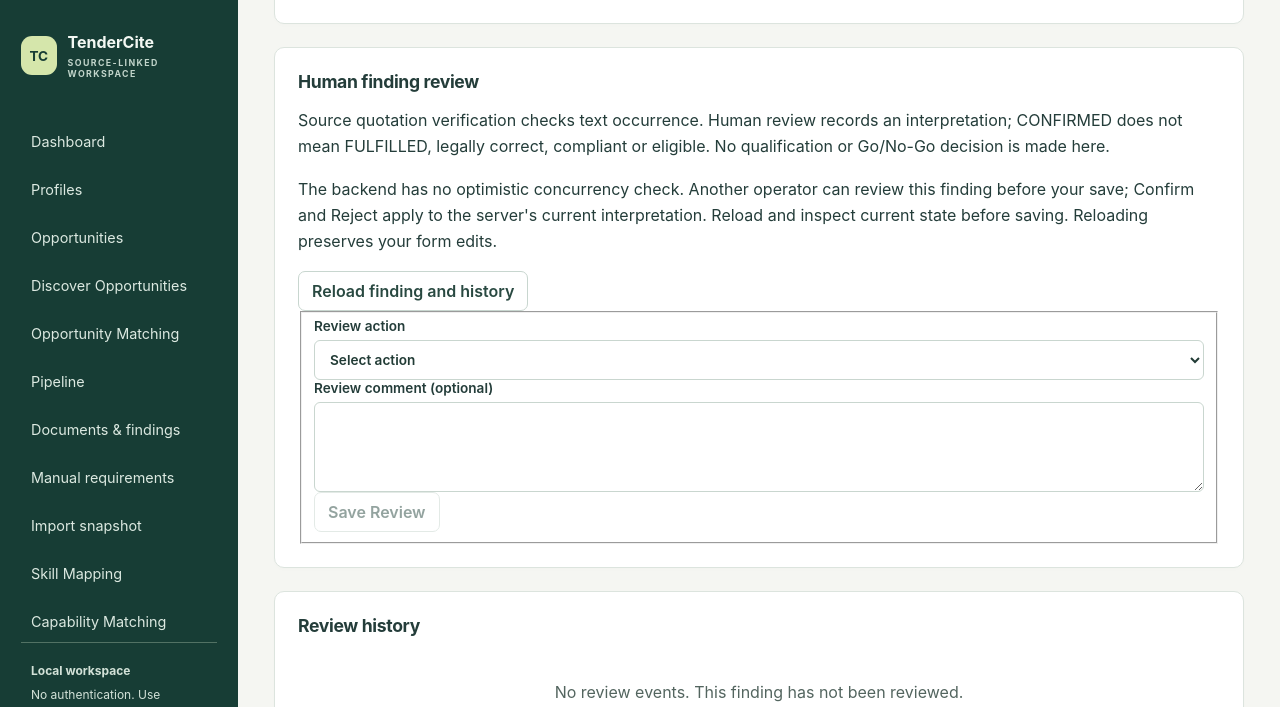
overlapping saves and reloads are blocked until the request and authoritative refresh finish
(page scrolled)
Expected: the text "No review events. This finding has not been reviewed." is shown, [555,682,963,702]
Select "CONFIRM" in the dropdown labelled "Review action" at (759, 360), box [314,340,1204,380]
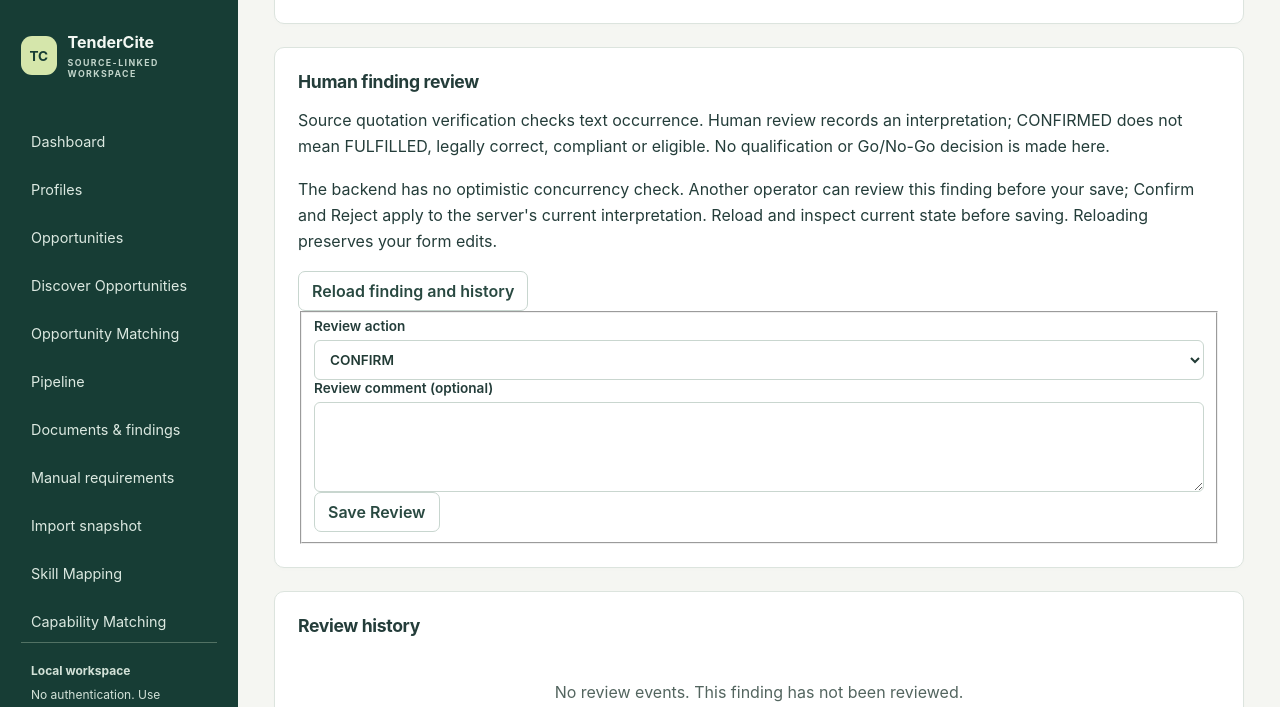
Click the button "Save Review" at (377, 512), box [314,492,440,532]
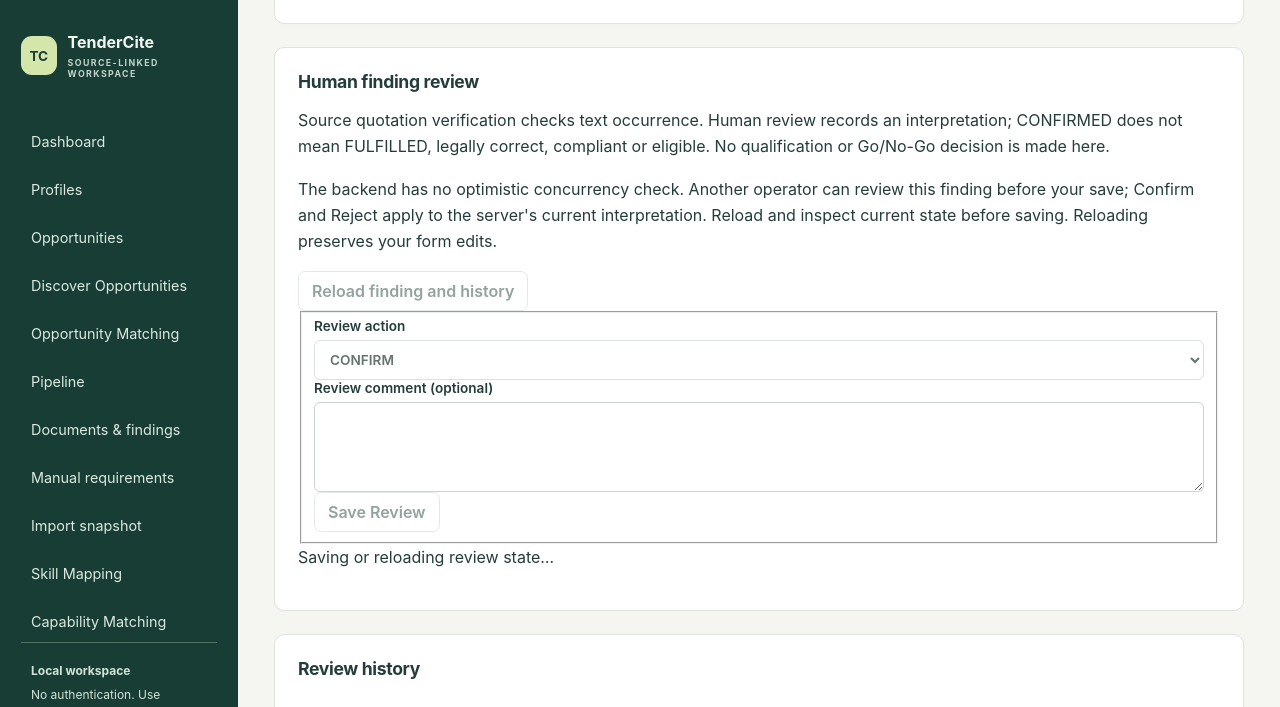
Expected: the dropdown labelled "Review action" is disabled, [314,340,1204,380]
Expected: the button "Reload finding and history" is disabled, [298,271,528,311]
Submit the form "Save Review", box [298,311,1220,544]
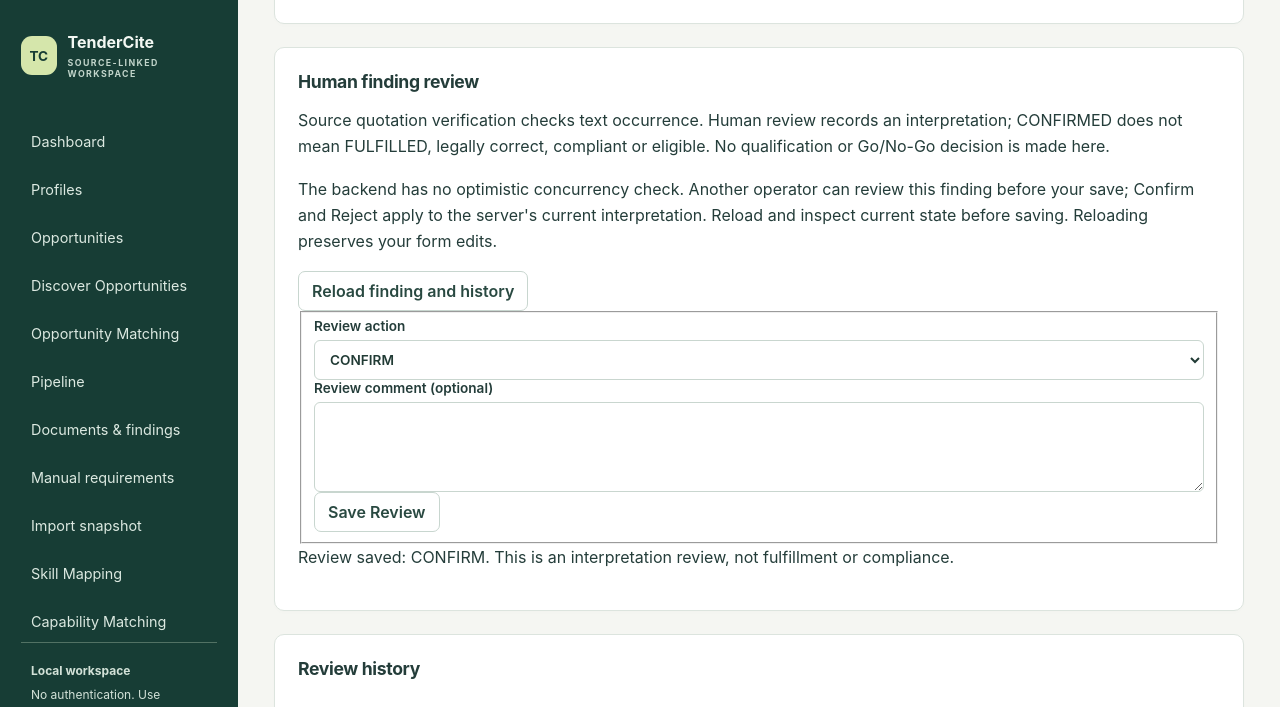
Expected: the text "Review saved:" is shown, [298,547,954,567]
